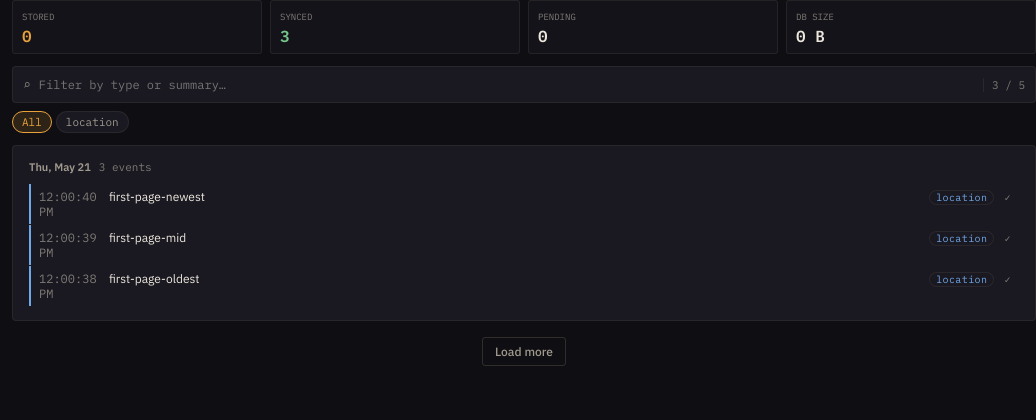
Test: LogsPane › appends the next page when "Load more" is clicked, using the smallest loaded id as the cursor
Click the button "Load more".
click(524, 352)  # box [482, 337, 566, 366]
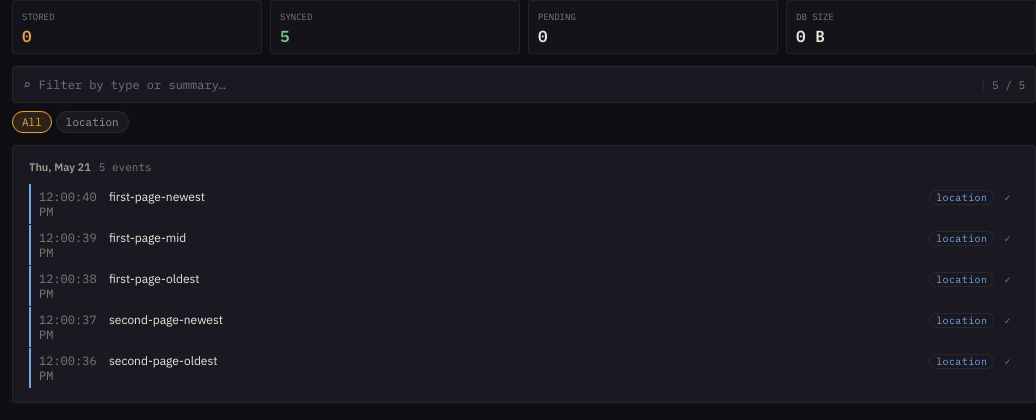
Expected: the text "first-page-newest" is shown, [109, 189, 205, 204]
Now the text "second-page-newest" is shown, box [109, 312, 223, 327]
